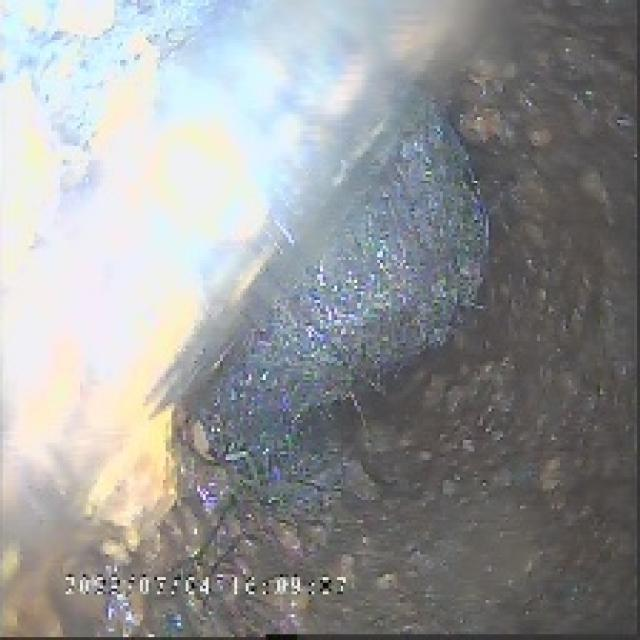Root_blockage: (203, 114, 500, 437)
